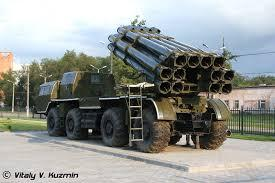MIL_SAM_TEL: (36, 20, 235, 155)
